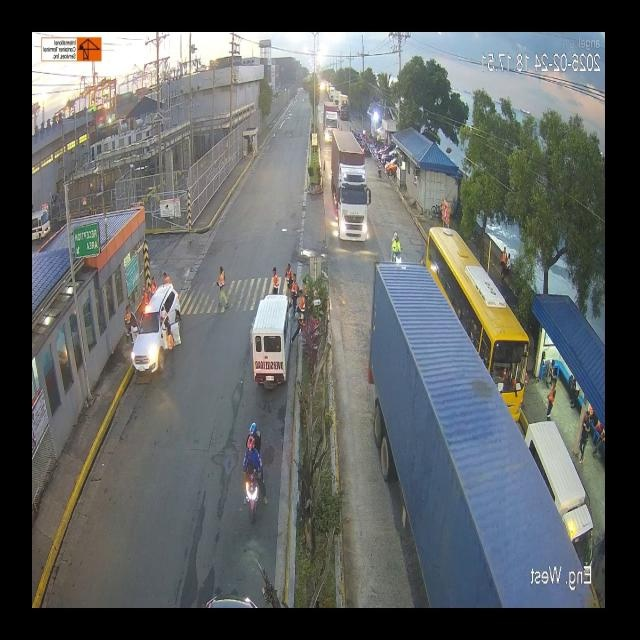bus: (106, 223, 534, 411)
car: (124, 282, 178, 378), (245, 300, 294, 394)
truck: (50, 250, 372, 611), (331, 126, 374, 239), (318, 100, 342, 142)
